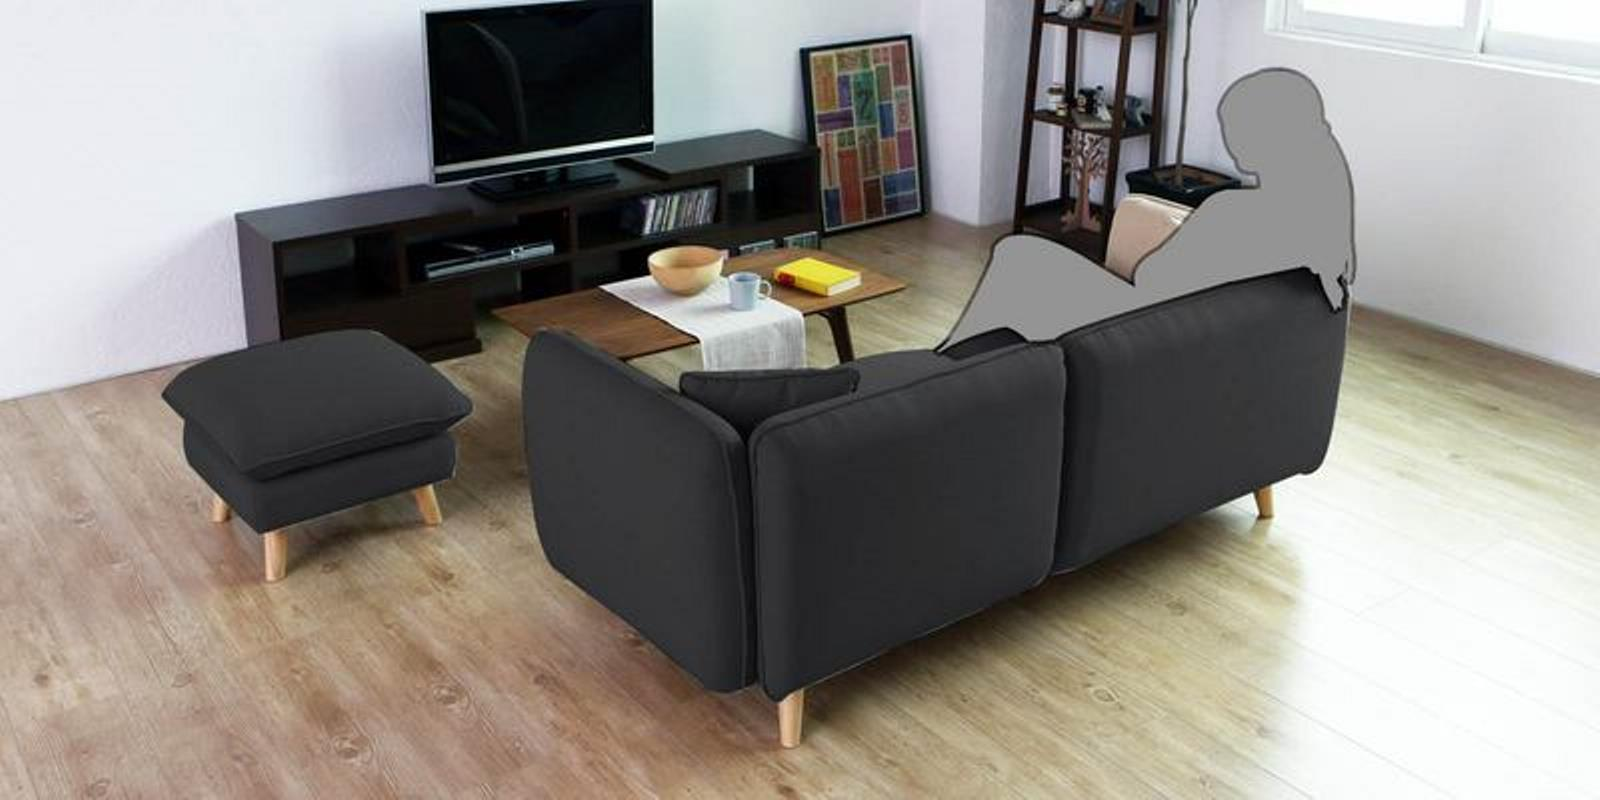Gloria Three Seater Sofa with Ottoman in Grey Colour by CasaCraft: (535, 250, 1355, 769), (150, 318, 476, 581)
